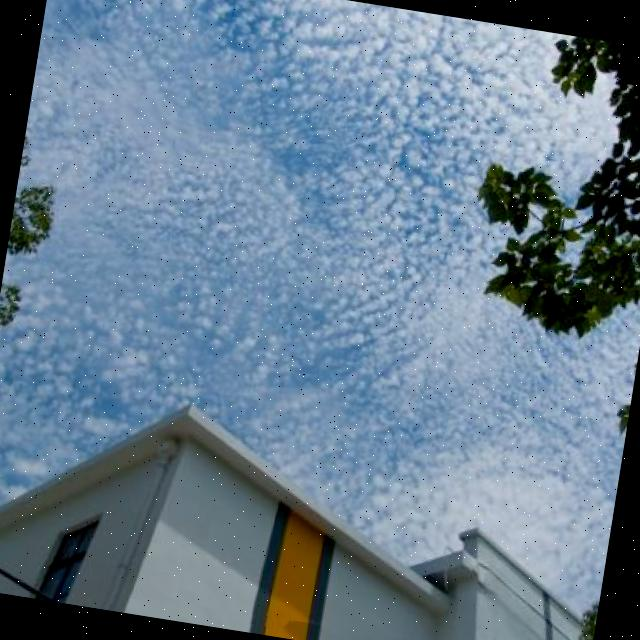Cc: (31, 1, 515, 180)
